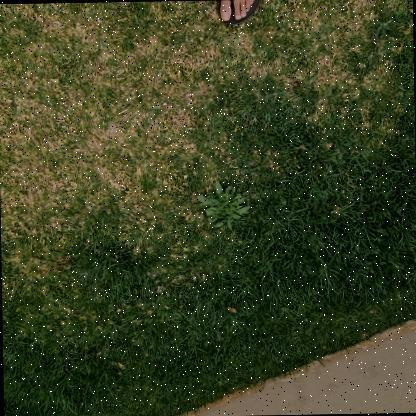Weeds: (192, 178, 250, 231)
